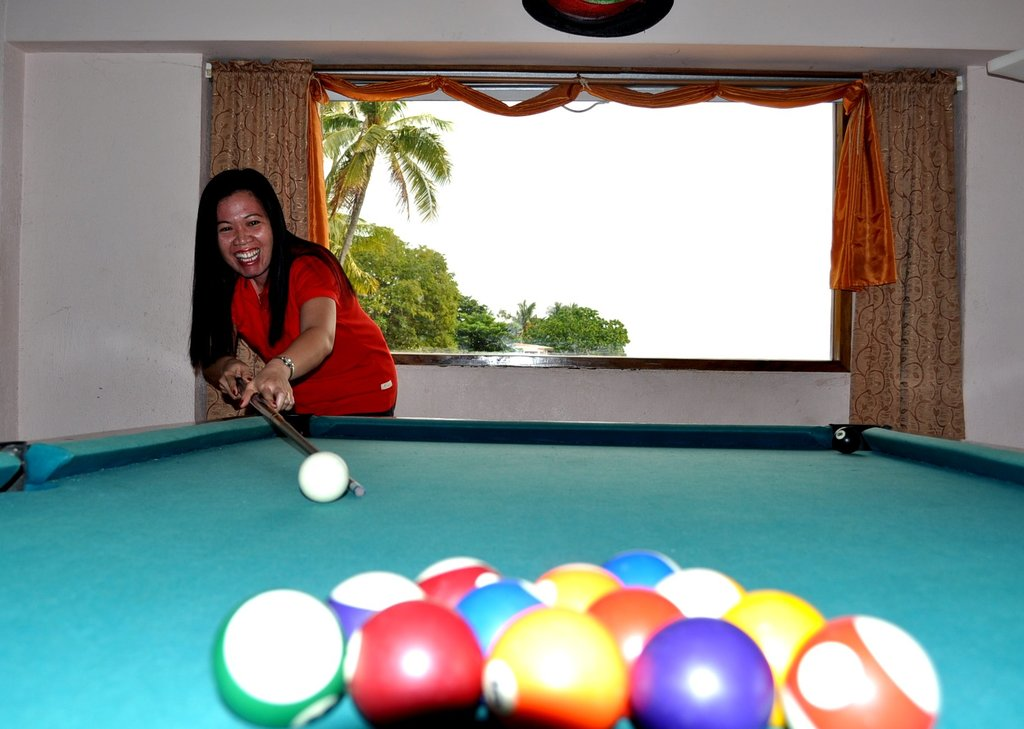Ball: (209, 548, 937, 728), (298, 451, 348, 500)
